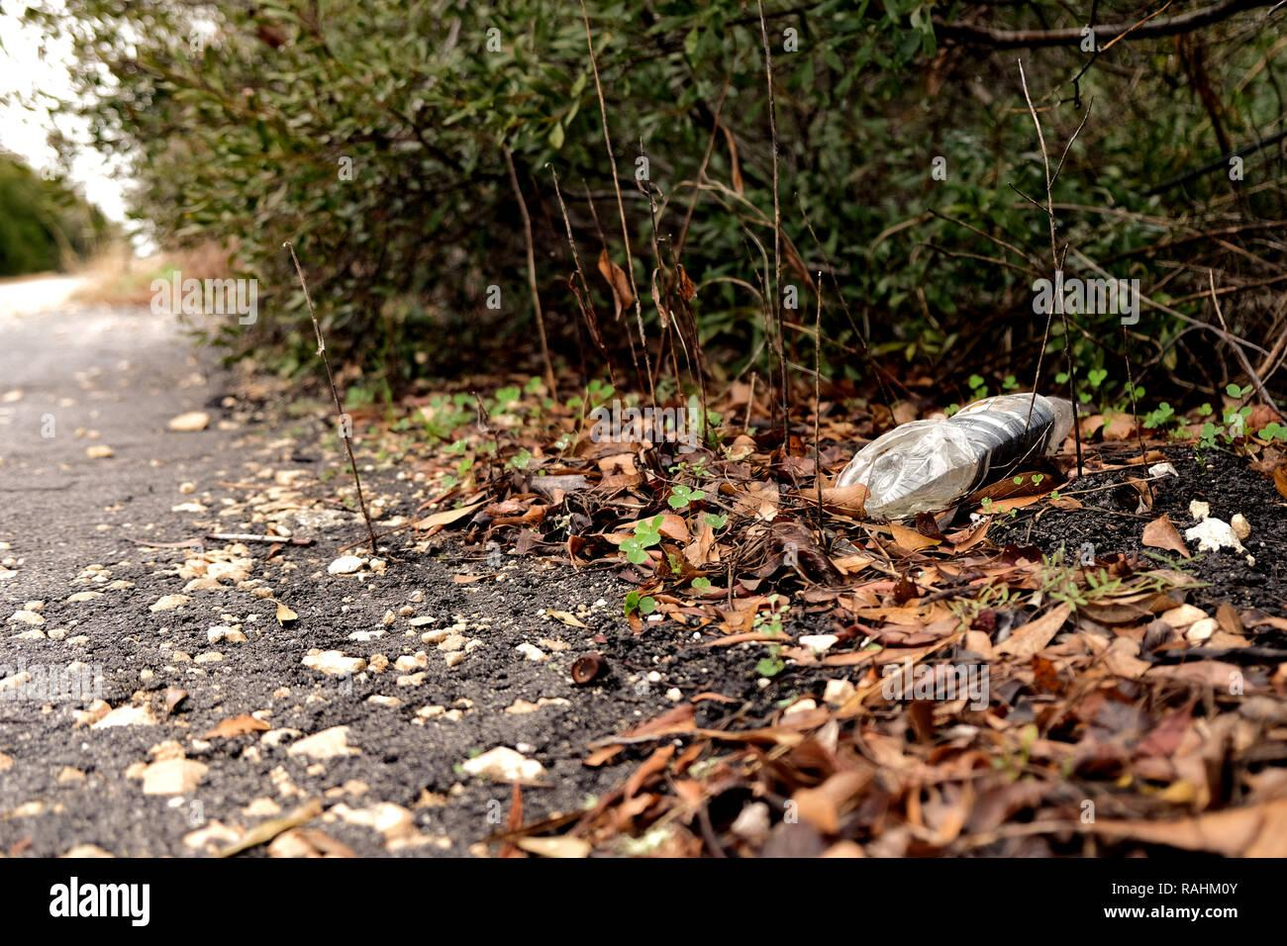trash: (835, 392, 1073, 519)
